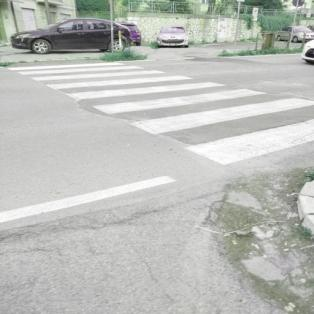Paso de Cebra: (83, 86, 314, 137), (3, 62, 147, 78)
